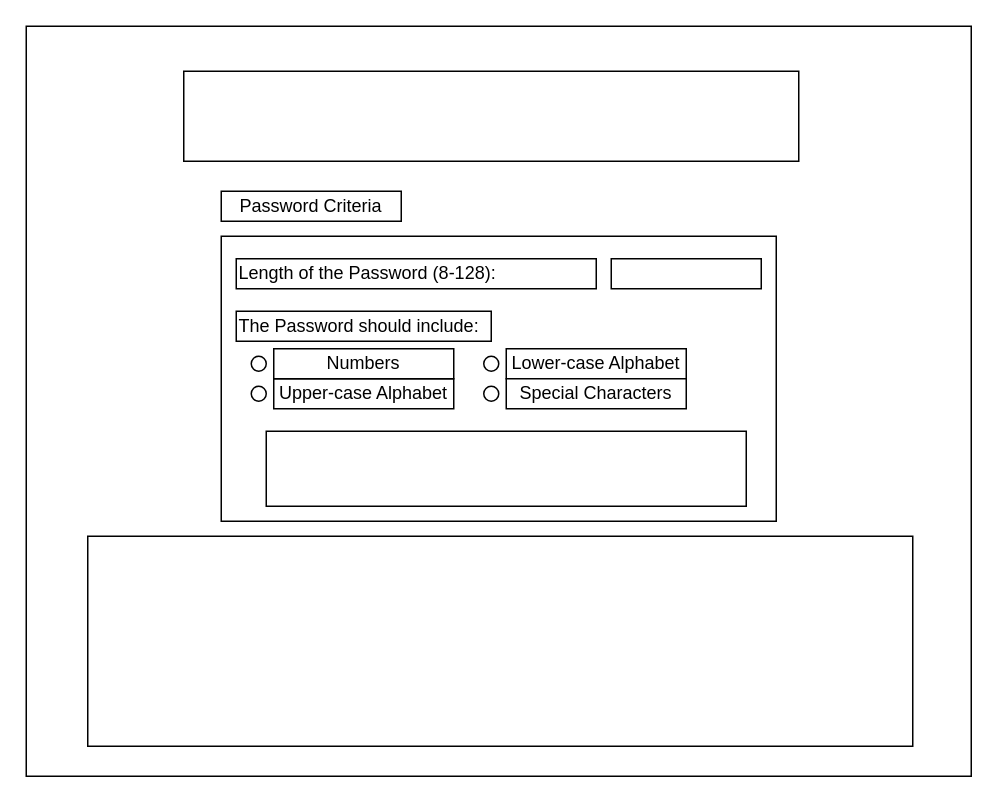
The diagram is 998 pixels wide and 803 high, and some of its shapes have lost their labels. Here are the shapes that lost their labels. From the top down, the box of each, then its label:
(182, 70, 799, 161): Random Password Generator
(265, 430, 746, 506): Generate
(86, 535, 913, 746): 23l5jb1l23kj5bl1kj23b5l;1j23bh5kjl1235jkhvg12khjg35cv2vf12xdgfh5shx1f235d1235
